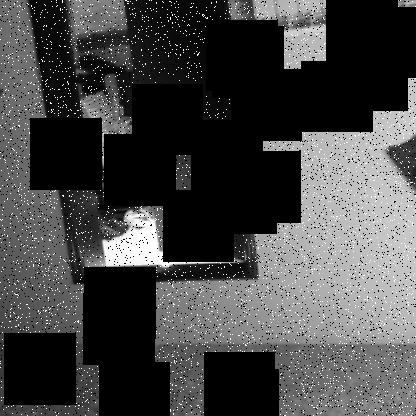Porte: (23, 1, 262, 287)
